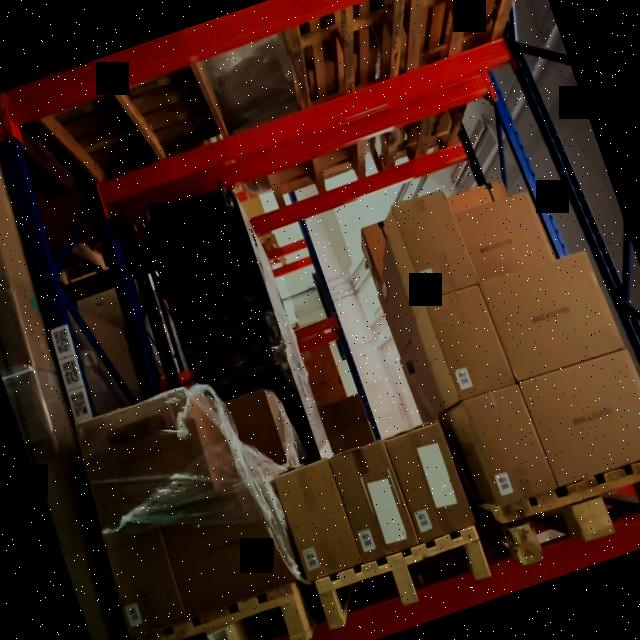box: (135, 180, 288, 382), (64, 384, 216, 531), (148, 478, 298, 616), (517, 341, 640, 490), (486, 246, 624, 378), (93, 506, 190, 640), (461, 382, 557, 512), (392, 186, 488, 311), (269, 462, 363, 586), (330, 442, 417, 562), (390, 423, 474, 544), (432, 282, 516, 398), (462, 191, 559, 279)
